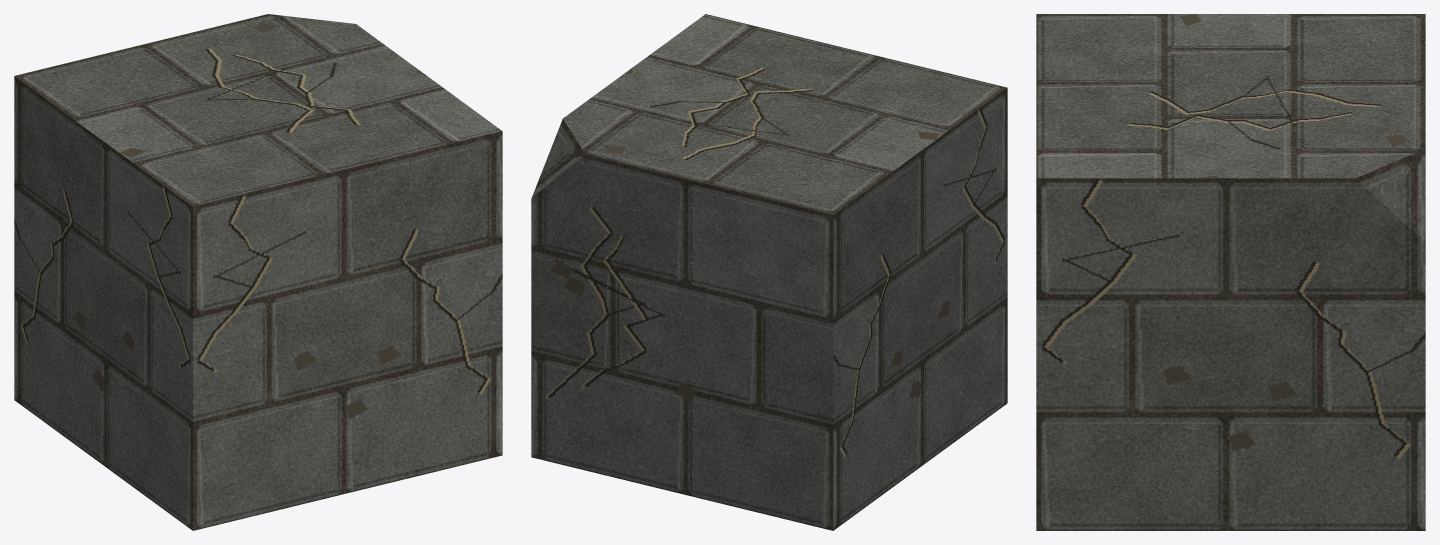
Rendered from foundation_z1.glb.
3 renders of one model, left to right at view 1: azimuth 30°, elevation 25°; view 2: azimuth 150°, elevation 25°; view 3: azimuth 270°, elevation 25°, orthographic. The views are drawn at different scales.
Parts seen in each view (by area): view 1: foundation_z1; view 2: foundation_z1; view 3: foundation_z1.
Boxes of the visible parts, x1,y1,x2,y2 form: foundation_z1: (14, 14, 502, 530); foundation_z1: (531, 14, 1007, 530); foundation_z1: (1036, 14, 1425, 530).
Size of the model in its own units: 1 by 1 by 1.
1 material, 1 textured.
